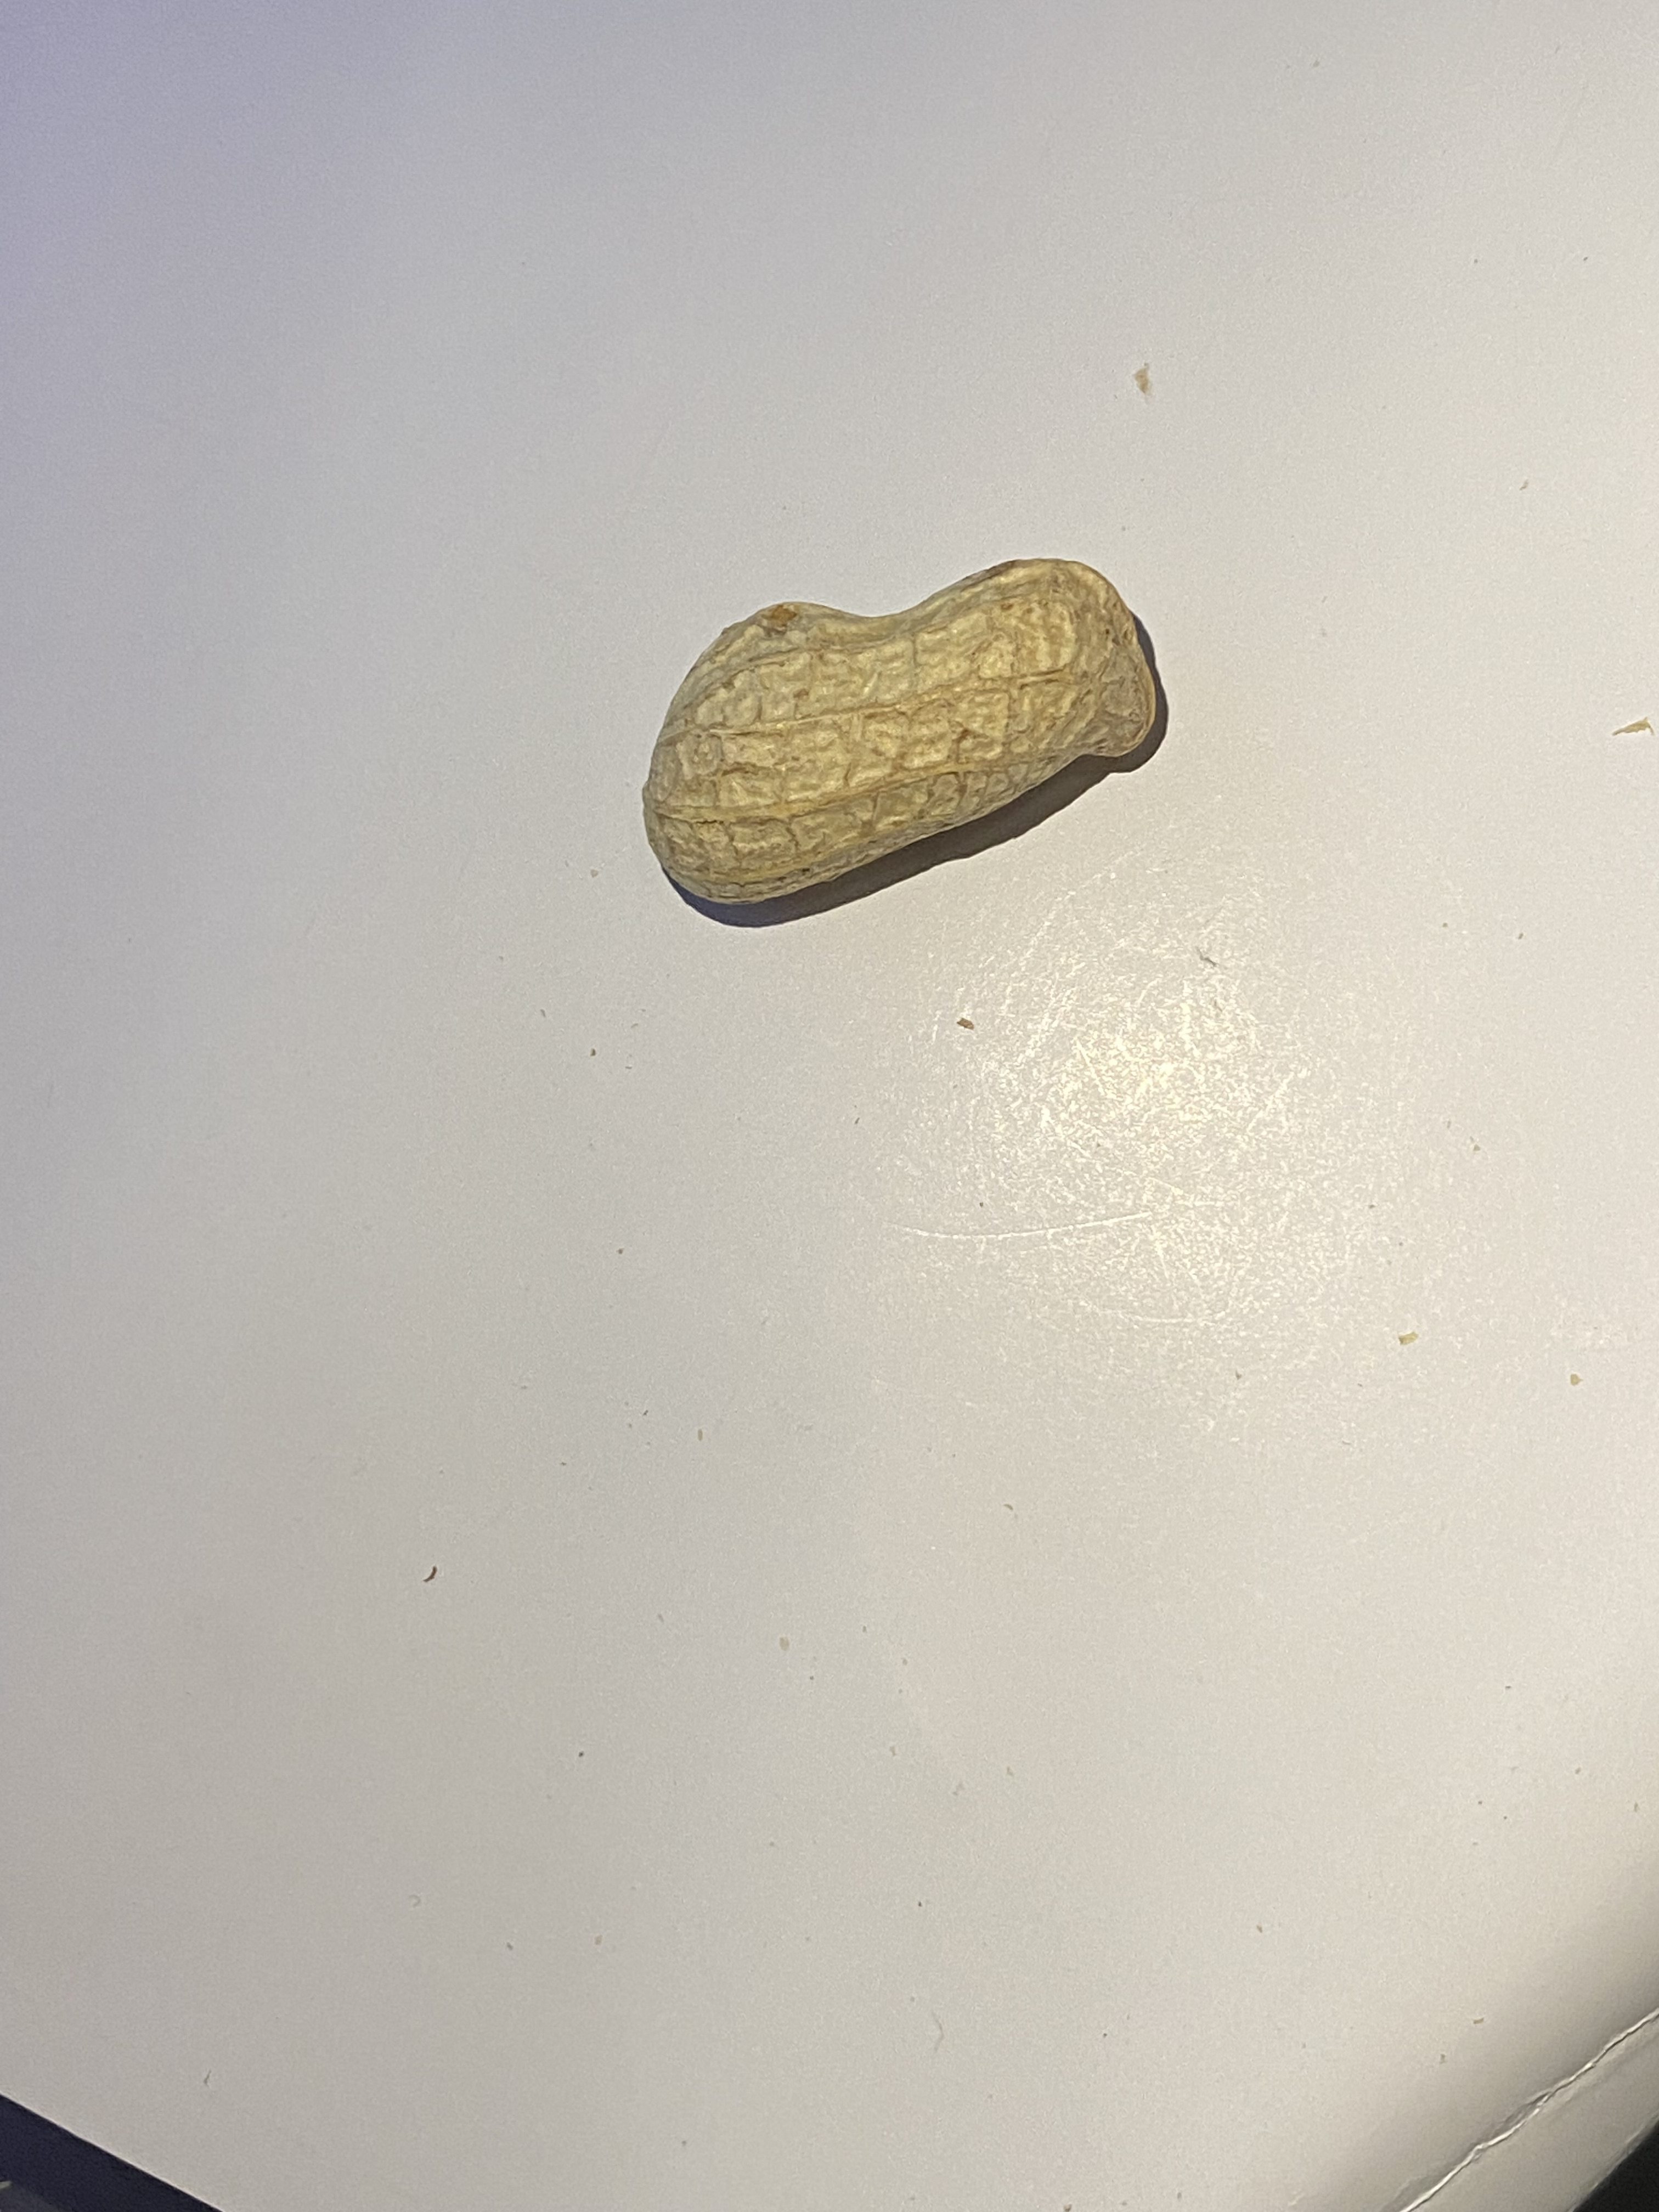kacang2: (579, 523, 1209, 928)
